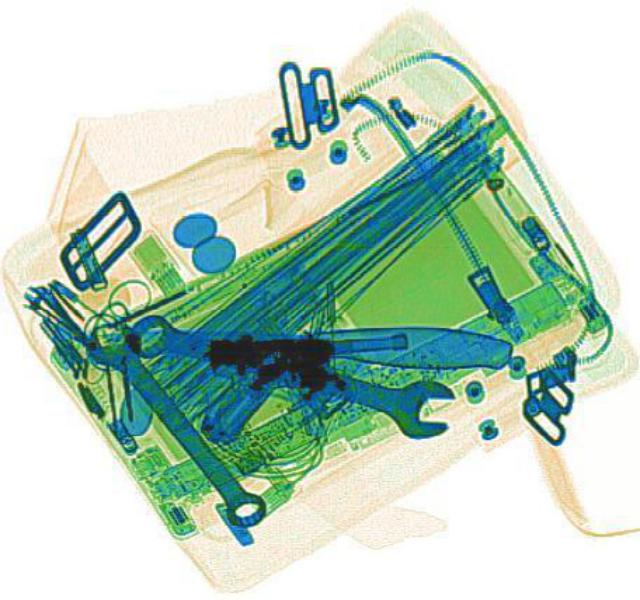Gun: (199, 327, 407, 440)
Knife: (99, 312, 511, 367)
Wrench: (116, 293, 460, 445), (74, 310, 278, 533)
